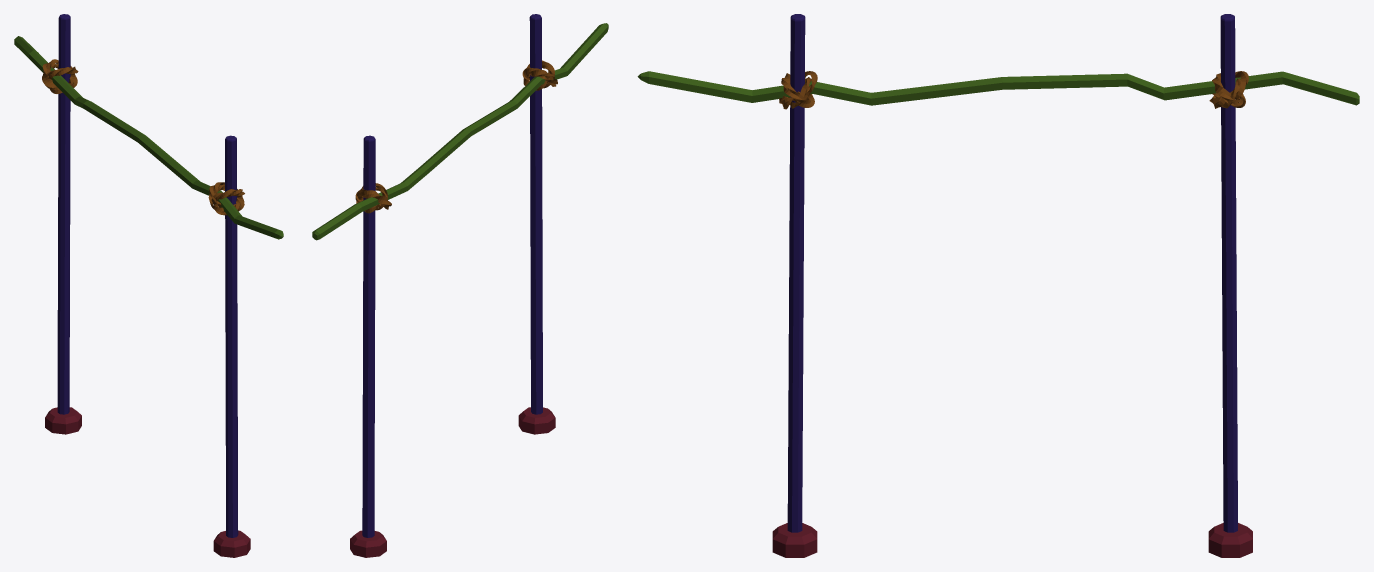
File: MESH_Support.fbx
3 renders of one model, left to right at view 1: azimuth 30°, elevation 25°; view 2: azimuth 150°, elevation 25°; view 3: azimuth 270°, elevation 25°, orthographic. The views are drawn at different scales.
Visible parts, largest first — view 1: MESH_Support; view 2: MESH_Support; view 3: MESH_Support.
Part boxes in pixels (x1,y1,x2,y2): MESH_Support: (14, 14, 283, 557); MESH_Support: (312, 14, 608, 557); MESH_Support: (637, 14, 1359, 557).
Size of the model in its own units: 0.1379 by 1.51 by 1.86.
